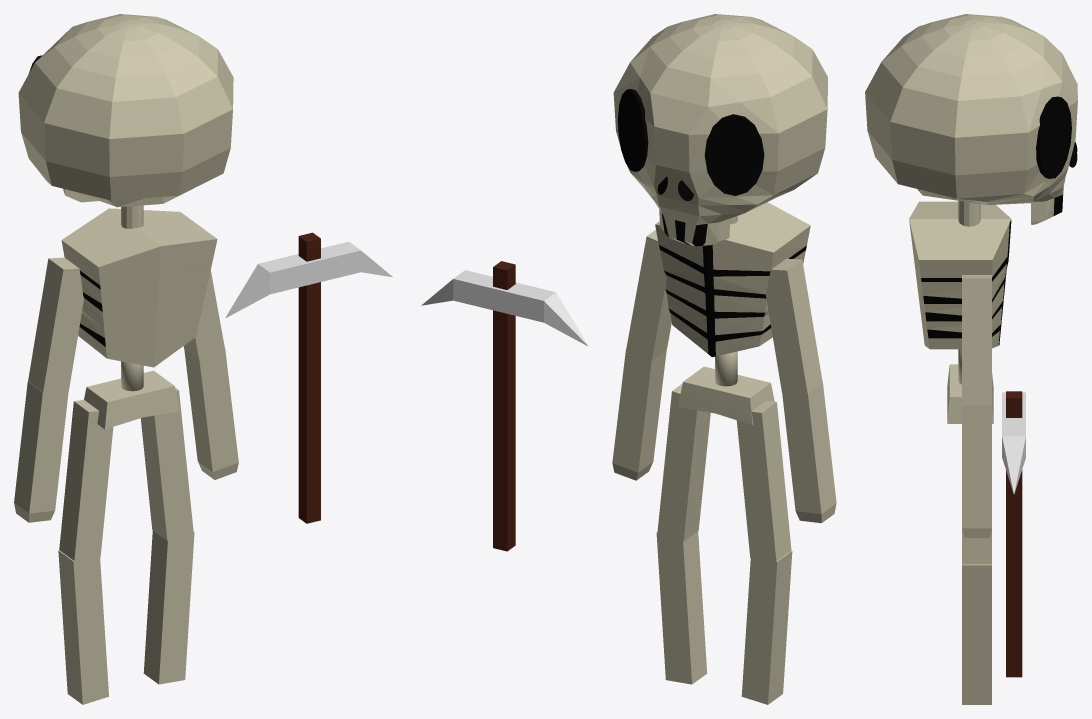
Rendered from Скелет Рабочий с Киркой.fbx.
3 views of the same model, side by side, from view 1: azimuth 30°, elevation 25°; view 2: azimuth 150°, elevation 25°; view 3: azimuth 270°, elevation 25° (orthographic).
Visible parts, largest first — view 1: Plane.005, Cube.076, Cube.005, Cube.004, Cube.002, Cube.001, Cube.063, Cube.064, Cube.003; view 2: Plane.005, Cube.076, Cube.005, Cube.004, Cube.002, Cube.001, Cube.063, Cube.064, Cube.003; view 3: Plane.005, Cube.076, Cube.005, Cube.002, Cube.001, Cube.063, Cube.064, Cube.003, Cube.004.
Boxes of the visible parts, left/top/right/bottom form: Plane.005: left=18, top=14, right=233, bottom=207; Cube.076: left=61, top=205, right=217, bottom=367; Cube.005: left=58, top=531, right=194, bottom=704; Cube.004: left=59, top=387, right=193, bottom=560; Cube.002: left=14, top=348, right=238, bottom=522; Cube.001: left=28, top=257, right=224, bottom=392; Cube.063: left=298, top=232, right=320, bottom=523; Cube.064: left=225, top=241, right=392, bottom=317; Cube.003: left=84, top=361, right=179, bottom=429; Plane.005: left=613, top=14, right=827, bottom=246; Cube.076: left=655, top=202, right=810, bottom=357; Cube.005: left=656, top=531, right=792, bottom=704; Cube.004: left=657, top=383, right=791, bottom=561; Cube.002: left=612, top=349, right=836, bottom=523; Cube.001: left=626, top=229, right=822, bottom=393; Cube.063: left=493, top=261, right=515, bottom=551; Cube.064: left=421, top=270, right=588, bottom=345; Cube.003: left=678, top=351, right=774, bottom=425; Plane.005: left=865, top=14, right=1077, bottom=224; Cube.076: left=909, top=200, right=1011, bottom=349; Cube.005: left=962, top=564, right=991, bottom=704; Cube.002: left=962, top=405, right=991, bottom=537; Cube.001: left=962, top=275, right=991, bottom=405; Cube.063: left=1006, top=391, right=1022, bottom=677; Cube.064: left=1002, top=392, right=1025, bottom=494; Cube.003: left=947, top=349, right=993, bottom=423; Cube.004: left=962, top=529, right=991, bottom=564.
Bounding box in the file's own units: 170 × 277 × 81.33.
